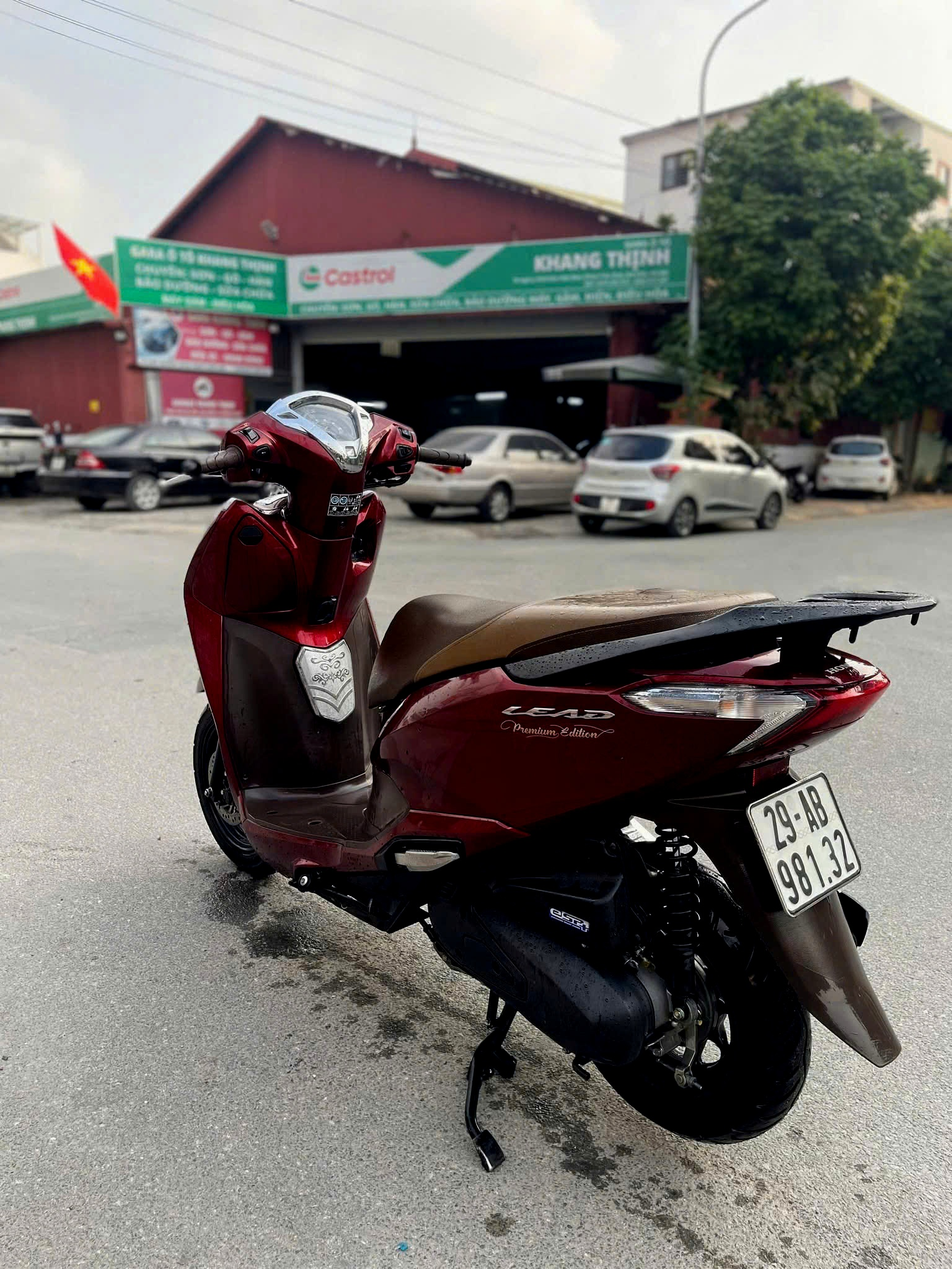Bien-so: (780, 797, 897, 939)
